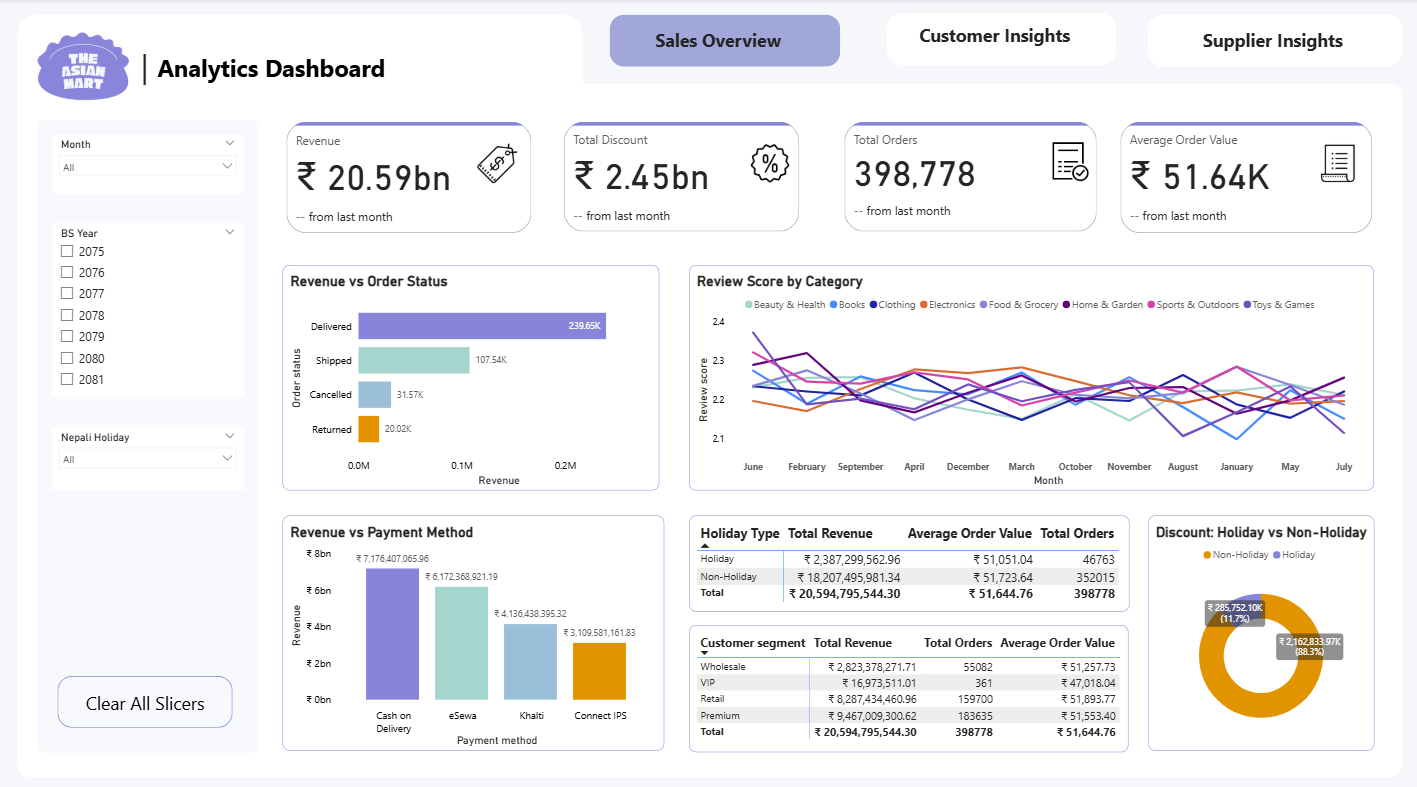

The dashboard page shown, as its layout file describes it:
{"tool":"powerbi","page":{"name":"Overview","canvas":[1920,1080],"ordinal":0},"visuals":[{"type":"shape","box":[25,115,1872.5,937.5],"z":0},{"type":"actionButton","box":[824.4,22,312.2,70.7],"z":1000},{"type":"actionButton","box":[1200,19.5,309.8,70.7],"z":2000},{"type":"actionButton","box":[1553.7,22,343.9,70.7],"z":3000},{"type":"shape","box":[25,22.5,765,115],"z":5000},{"type":"image","box":[40.6,17.5,144.4,145],"z":6000},{"type":"textbox","box":[187.1,57.1,21.4,71.4],"z":7000},{"type":"textbox","box":[208.9,67.8,329.4,61.1],"z":8000},{"type":"textbox","box":[882.9,34.1,202.4,48.8],"z":9000},{"type":"textbox","box":[1239,29.3,226.8,53.7],"z":11000},{"type":"textbox","box":[1622,34.1,209.8,43.9],"z":12000},{"type":"shape","box":[50,163.3,300,856.7],"z":13000},{"type":"cardVisual","fields":{"Data":["order_items.Total Revenue"]},"box":[383.8,162.8,342,160.5],"z":14000},{"type":"cardVisual","fields":{"Data":["order_items.Total Discount"]},"box":[758.4,162.8,328,158.2],"z":15000},{"type":"cardVisual","fields":{"Data":["order_items.Total Orders"]},"box":[1137.6,162.8,351.3,158.2],"z":16000},{"type":"cardVisual","fields":{"Data":["order_items.Average Order Value"]},"box":[1510,162.5,350,160],"z":17000},{"type":"actionButton","box":[80,916.7,236.7,70],"z":18000},{"type":"barChart","title":"Revenue vs Order Status","fields":{"Y":["order_items.Total Orders"],"Category":["order_details.order_status"]},"box":[383.8,360.6,509.5,304.7],"z":19000},{"type":"lineChart","title":"Review Score by Category","fields":{"Category":["dates.Date Hierarchy.month_name"],"Y":["order_items.Avg Review Score"],"Series":["products.category"]},"box":[932.9,360.6,925.9,304.7],"z":20000},{"type":"slicer","fields":{"Values":["dates.month_name"]},"box":[70,184,260,80],"z":21000},{"type":"columnChart","title":"Revenue vs Payment Method","fields":{"Y":["order_items.Total Revenue"],"Category":["order_details.payment_method"]},"box":[384,700,516,318],"z":22000},{"type":"pivotTable","title":"Revenue vs Payment Method","fields":{"Values":["order_items.Total Revenue","order_items.Average Order Value","order_items.Total Orders"],"Rows":["dates.Holiday Type"]},"box":[932.5,700,595,130],"z":23000},{"type":"pivotTable","title":"Revenue vs Payment Method","fields":{"Rows":["customers.customer_segment"],"Values":["order_items.Total Revenue","order_items.Total Orders","order_items.Average Order Value"]},"box":[932,848,594,172],"z":24000},{"type":"donutChart","title":"Discount: Holiday vs Non-Holiday","fields":{"Y":["order_items.Total Discount"],"Category":["dates.Holiday Type"]},"box":[1554,700,306,318],"z":25000},{"type":"slicer","fields":{"Values":["dates.is_np_holiday"]},"box":[70,580,260,85],"z":26000},{"type":"slicer","fields":{"Values":["dates.BS Year"]},"box":[70,305,260,235],"z":27000}]}

Visuals, with their boxes in screenshot pixels (x1, y1, x2, y2), scaled from the page's 1920x1080 canvas onto the 1417x787 screenshot:
shape: detection(18, 84, 1400, 767)
actionButton: detection(608, 16, 839, 68)
actionButton: detection(886, 14, 1114, 66)
actionButton: detection(1147, 16, 1400, 68)
shape: detection(18, 16, 583, 100)
image: detection(30, 13, 137, 118)
textbox: detection(138, 42, 154, 94)
textbox: detection(154, 49, 397, 94)
textbox: detection(652, 25, 801, 60)
textbox: detection(914, 21, 1082, 60)
textbox: detection(1197, 25, 1352, 57)
shape: detection(37, 119, 258, 743)
cardVisual - order_items.Total Revenue: detection(283, 119, 536, 236)
cardVisual - order_items.Total Discount: detection(560, 119, 802, 234)
cardVisual - order_items.Total Orders: detection(840, 119, 1099, 234)
cardVisual - order_items.Average Order Value: detection(1114, 118, 1373, 235)
actionButton: detection(59, 668, 234, 719)
"Revenue vs Order Status" barChart: detection(283, 263, 659, 485)
"Review Score by Category" lineChart: detection(688, 263, 1372, 485)
slicer - dates.month_name: detection(52, 134, 244, 192)
"Revenue vs Payment Method" columnChart: detection(283, 510, 664, 742)
"Revenue vs Payment Method" pivotTable: detection(688, 510, 1127, 605)
"Revenue vs Payment Method" pivotTable: detection(688, 618, 1126, 743)
"Discount: Holiday vs Non-Holiday" donutChart: detection(1147, 510, 1373, 742)
slicer - dates.is_np_holiday: detection(52, 423, 244, 485)
slicer - dates.BS Year: detection(52, 222, 244, 394)
